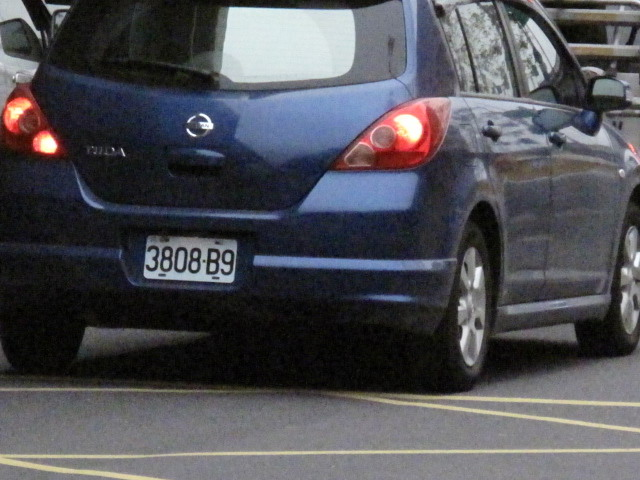plate: (141, 231, 240, 287)
